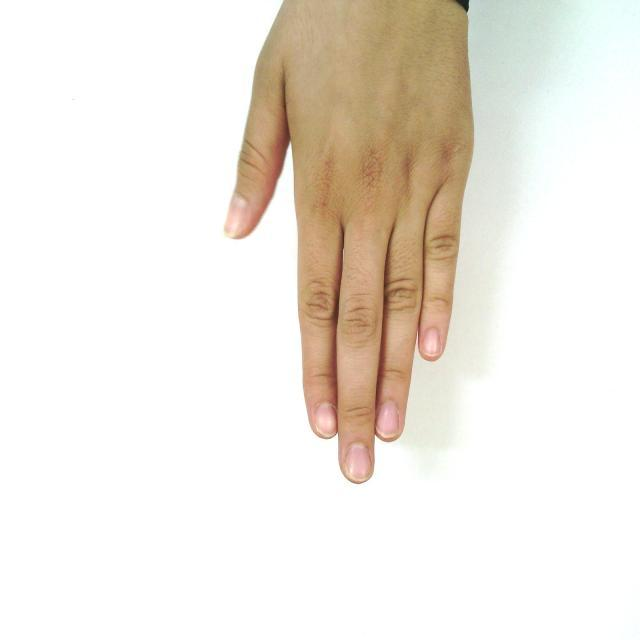Fingernail: (346, 444, 370, 481), (225, 196, 247, 235), (377, 402, 399, 438), (314, 405, 336, 436), (422, 329, 439, 355)
